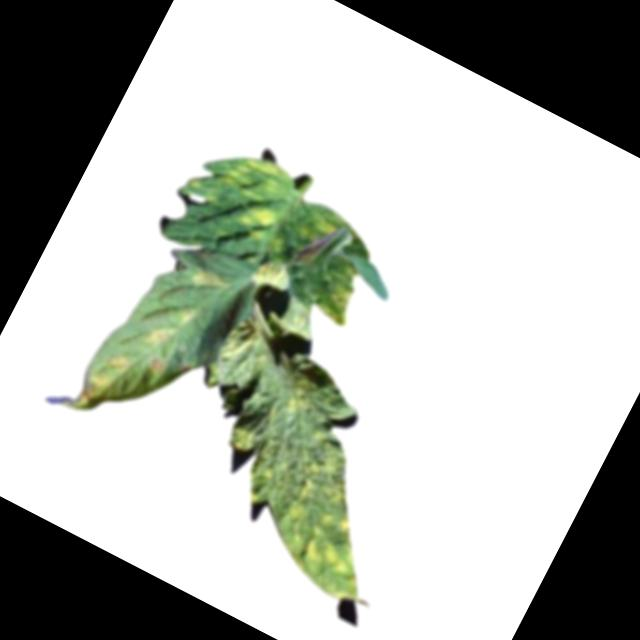Leaf_Mold: (251, 428, 419, 609), (176, 131, 304, 249), (308, 273, 365, 330), (72, 368, 117, 415), (248, 253, 295, 296), (137, 313, 180, 354), (184, 260, 227, 300), (277, 383, 318, 423), (172, 299, 205, 332), (103, 350, 130, 378)
